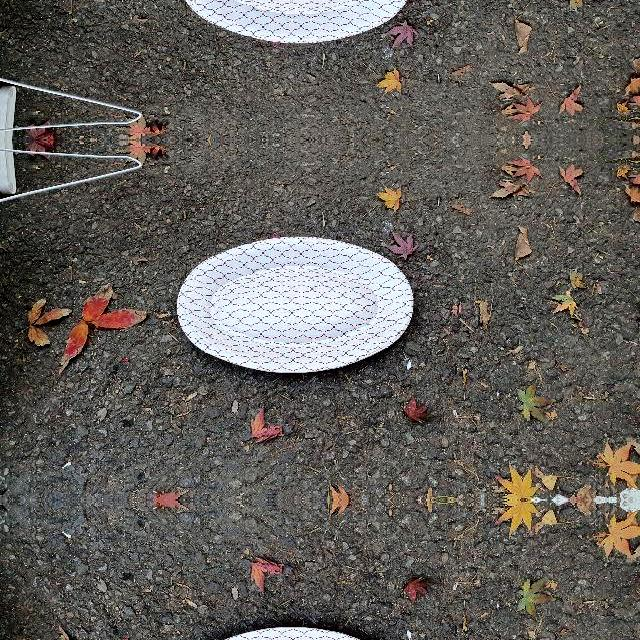Styrofoam: (175, 236, 415, 374), (177, 236, 414, 372), (175, 0, 415, 44), (185, 0, 408, 44)
